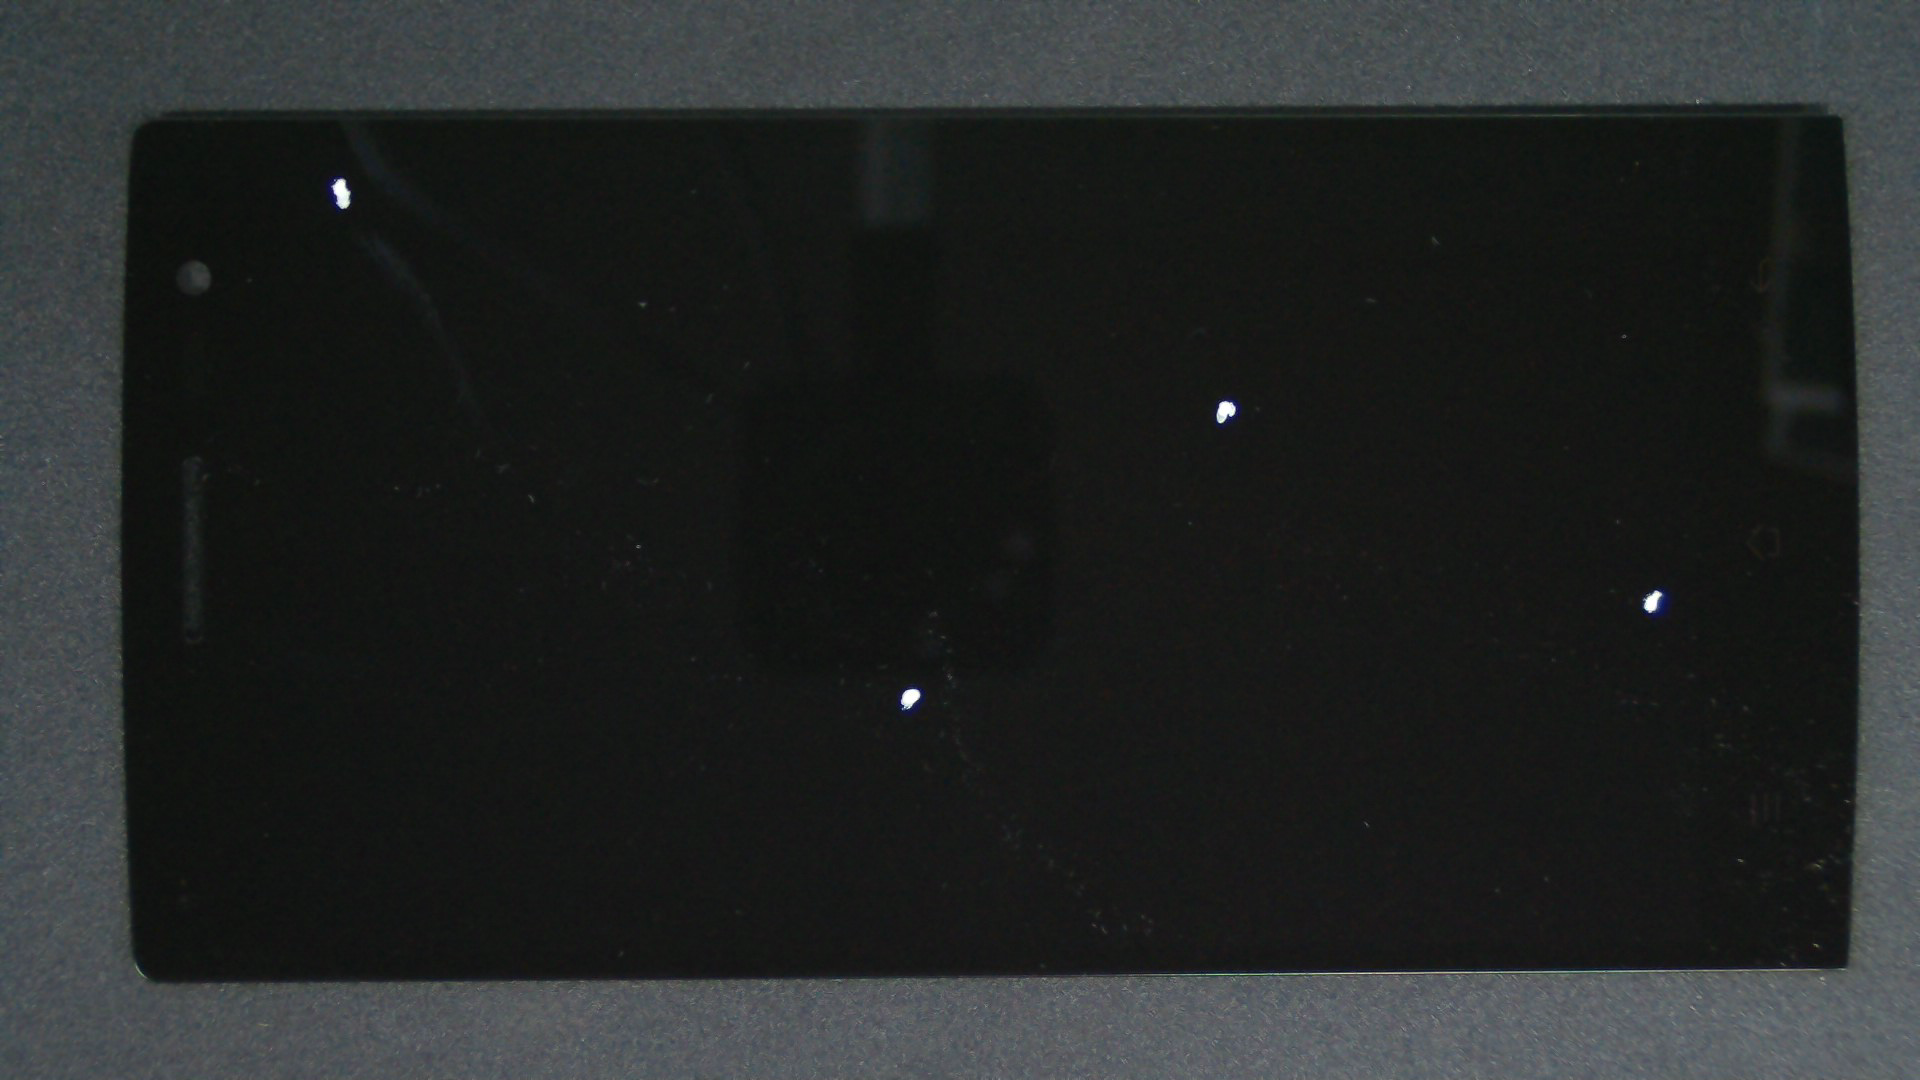defect: (328, 177, 352, 210), (1640, 589, 1664, 615), (1215, 400, 1236, 425), (899, 687, 920, 711)
